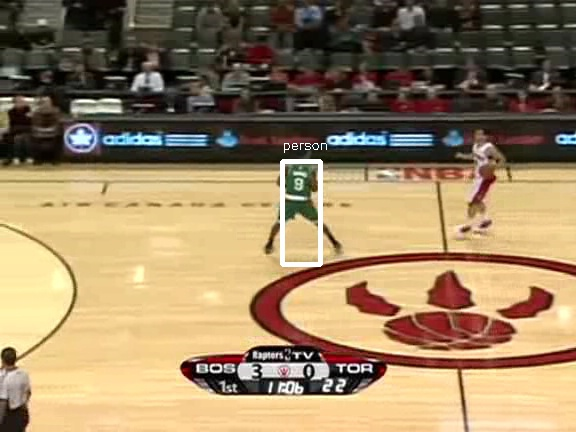person: (282, 154, 316, 235), (281, 154, 315, 235), (283, 154, 317, 235), (282, 153, 316, 234), (282, 155, 316, 236)
target_negative: (166, 218, 405, 418), (313, 79, 397, 401), (22, 370, 469, 393), (482, 295, 527, 352), (117, 312, 134, 395), (552, 143, 574, 152)
